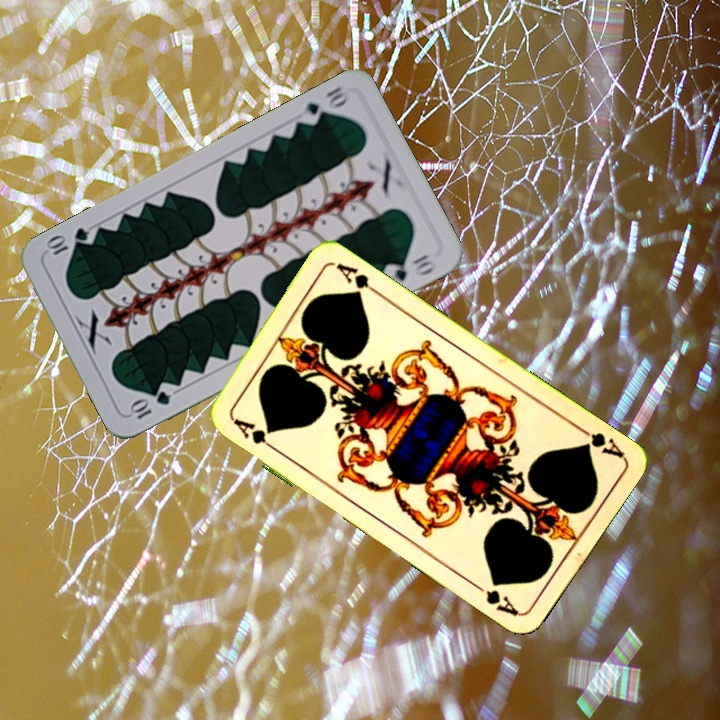G10: (295, 82, 352, 128), (126, 387, 173, 422)
GA: (572, 421, 626, 461), (228, 414, 279, 453)
